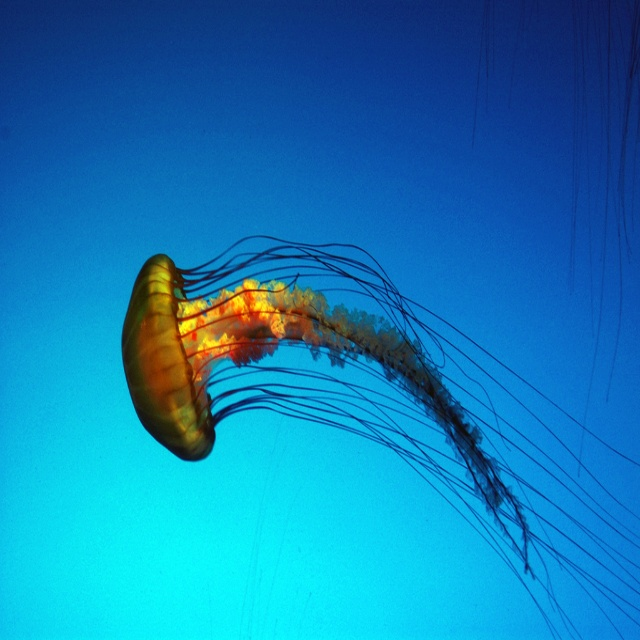Jellyfish: (118, 232, 639, 639)
